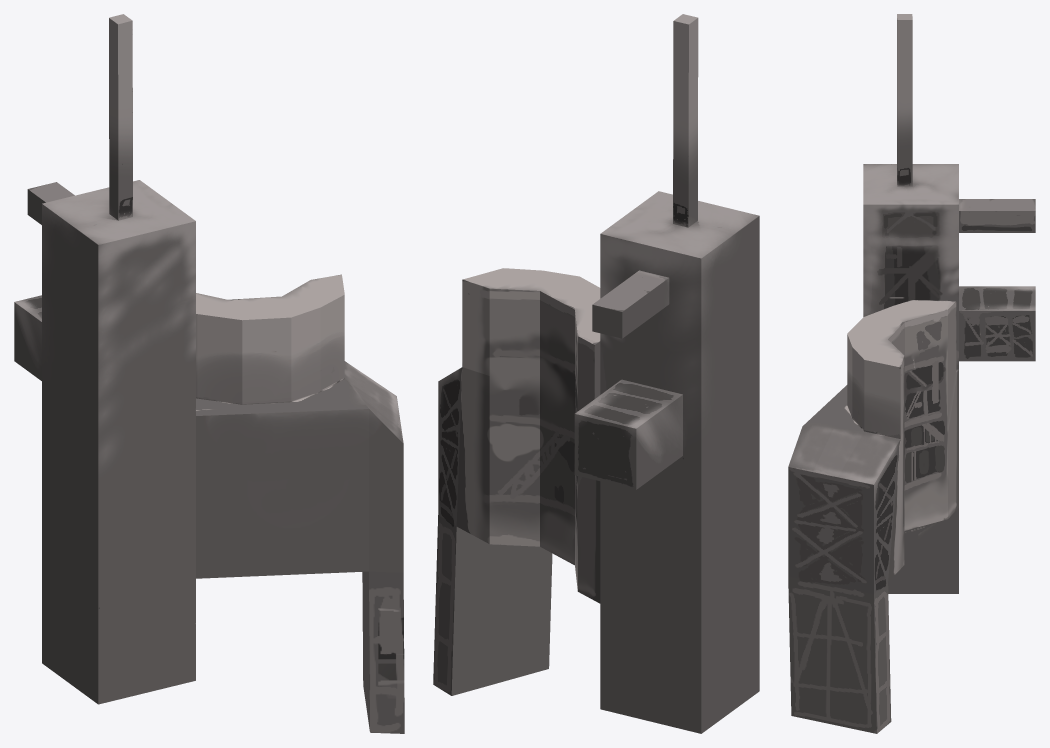
Rendered from suporte.fbx.
3 views of the same model, side by side, from view 1: azimuth 30°, elevation 25°; view 2: azimuth 150°, elevation 25°; view 3: azimuth 270°, elevation 25° (orthographic). The views are drawn at different scales.
Visible parts, largest first — view 1: Suporte; view 2: Suporte; view 3: Suporte.
Boxes of the visible parts, x1,y1,x2,y2 form: Suporte: [14, 14, 404, 733]; Suporte: [433, 14, 759, 733]; Suporte: [788, 14, 1035, 733].
Size of the model in its own units: 629 by 1405 by 517.
